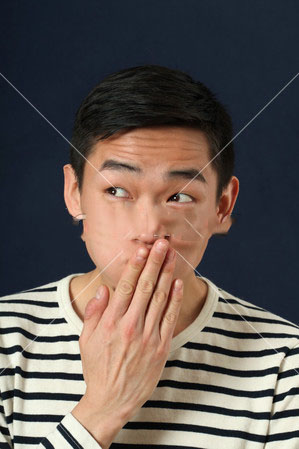face: (86, 117, 211, 323)
